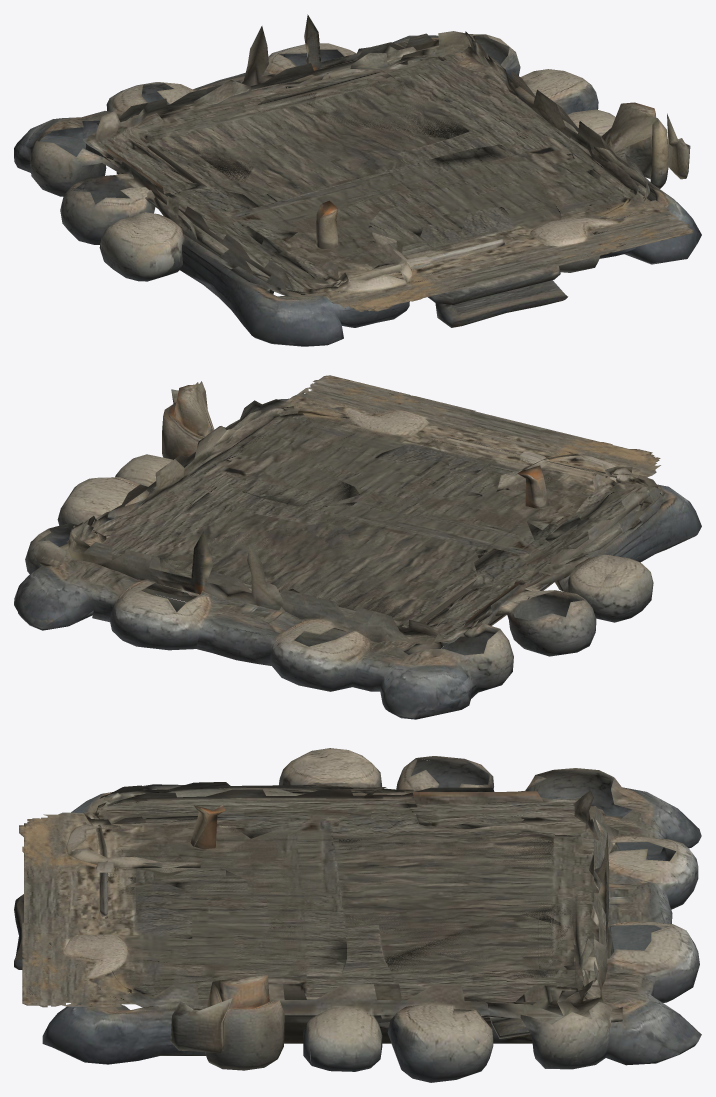
Rendered from prop_1236.glb.
3 renders of one model, top to bottom at view 1: azimuth 30°, elevation 25°; view 2: azimuth 150°, elevation 25°; view 3: azimuth 270°, elevation 25°, orthographic. The views are drawn at different scales.
Parts seen in each view (by area): view 1: prop_1236_mesh; view 2: prop_1236_mesh; view 3: prop_1236_mesh.
Boxes of the visible parts, left/top/right/bottom form: prop_1236_mesh: left=14, top=14, right=701, bottom=346; prop_1236_mesh: left=14, top=375, right=701, bottom=719; prop_1236_mesh: left=14, top=748, right=701, bottom=1082.
Size of the model in its own units: 1.62 by 0.2913 by 1.6.
1 material, 1 textured.
